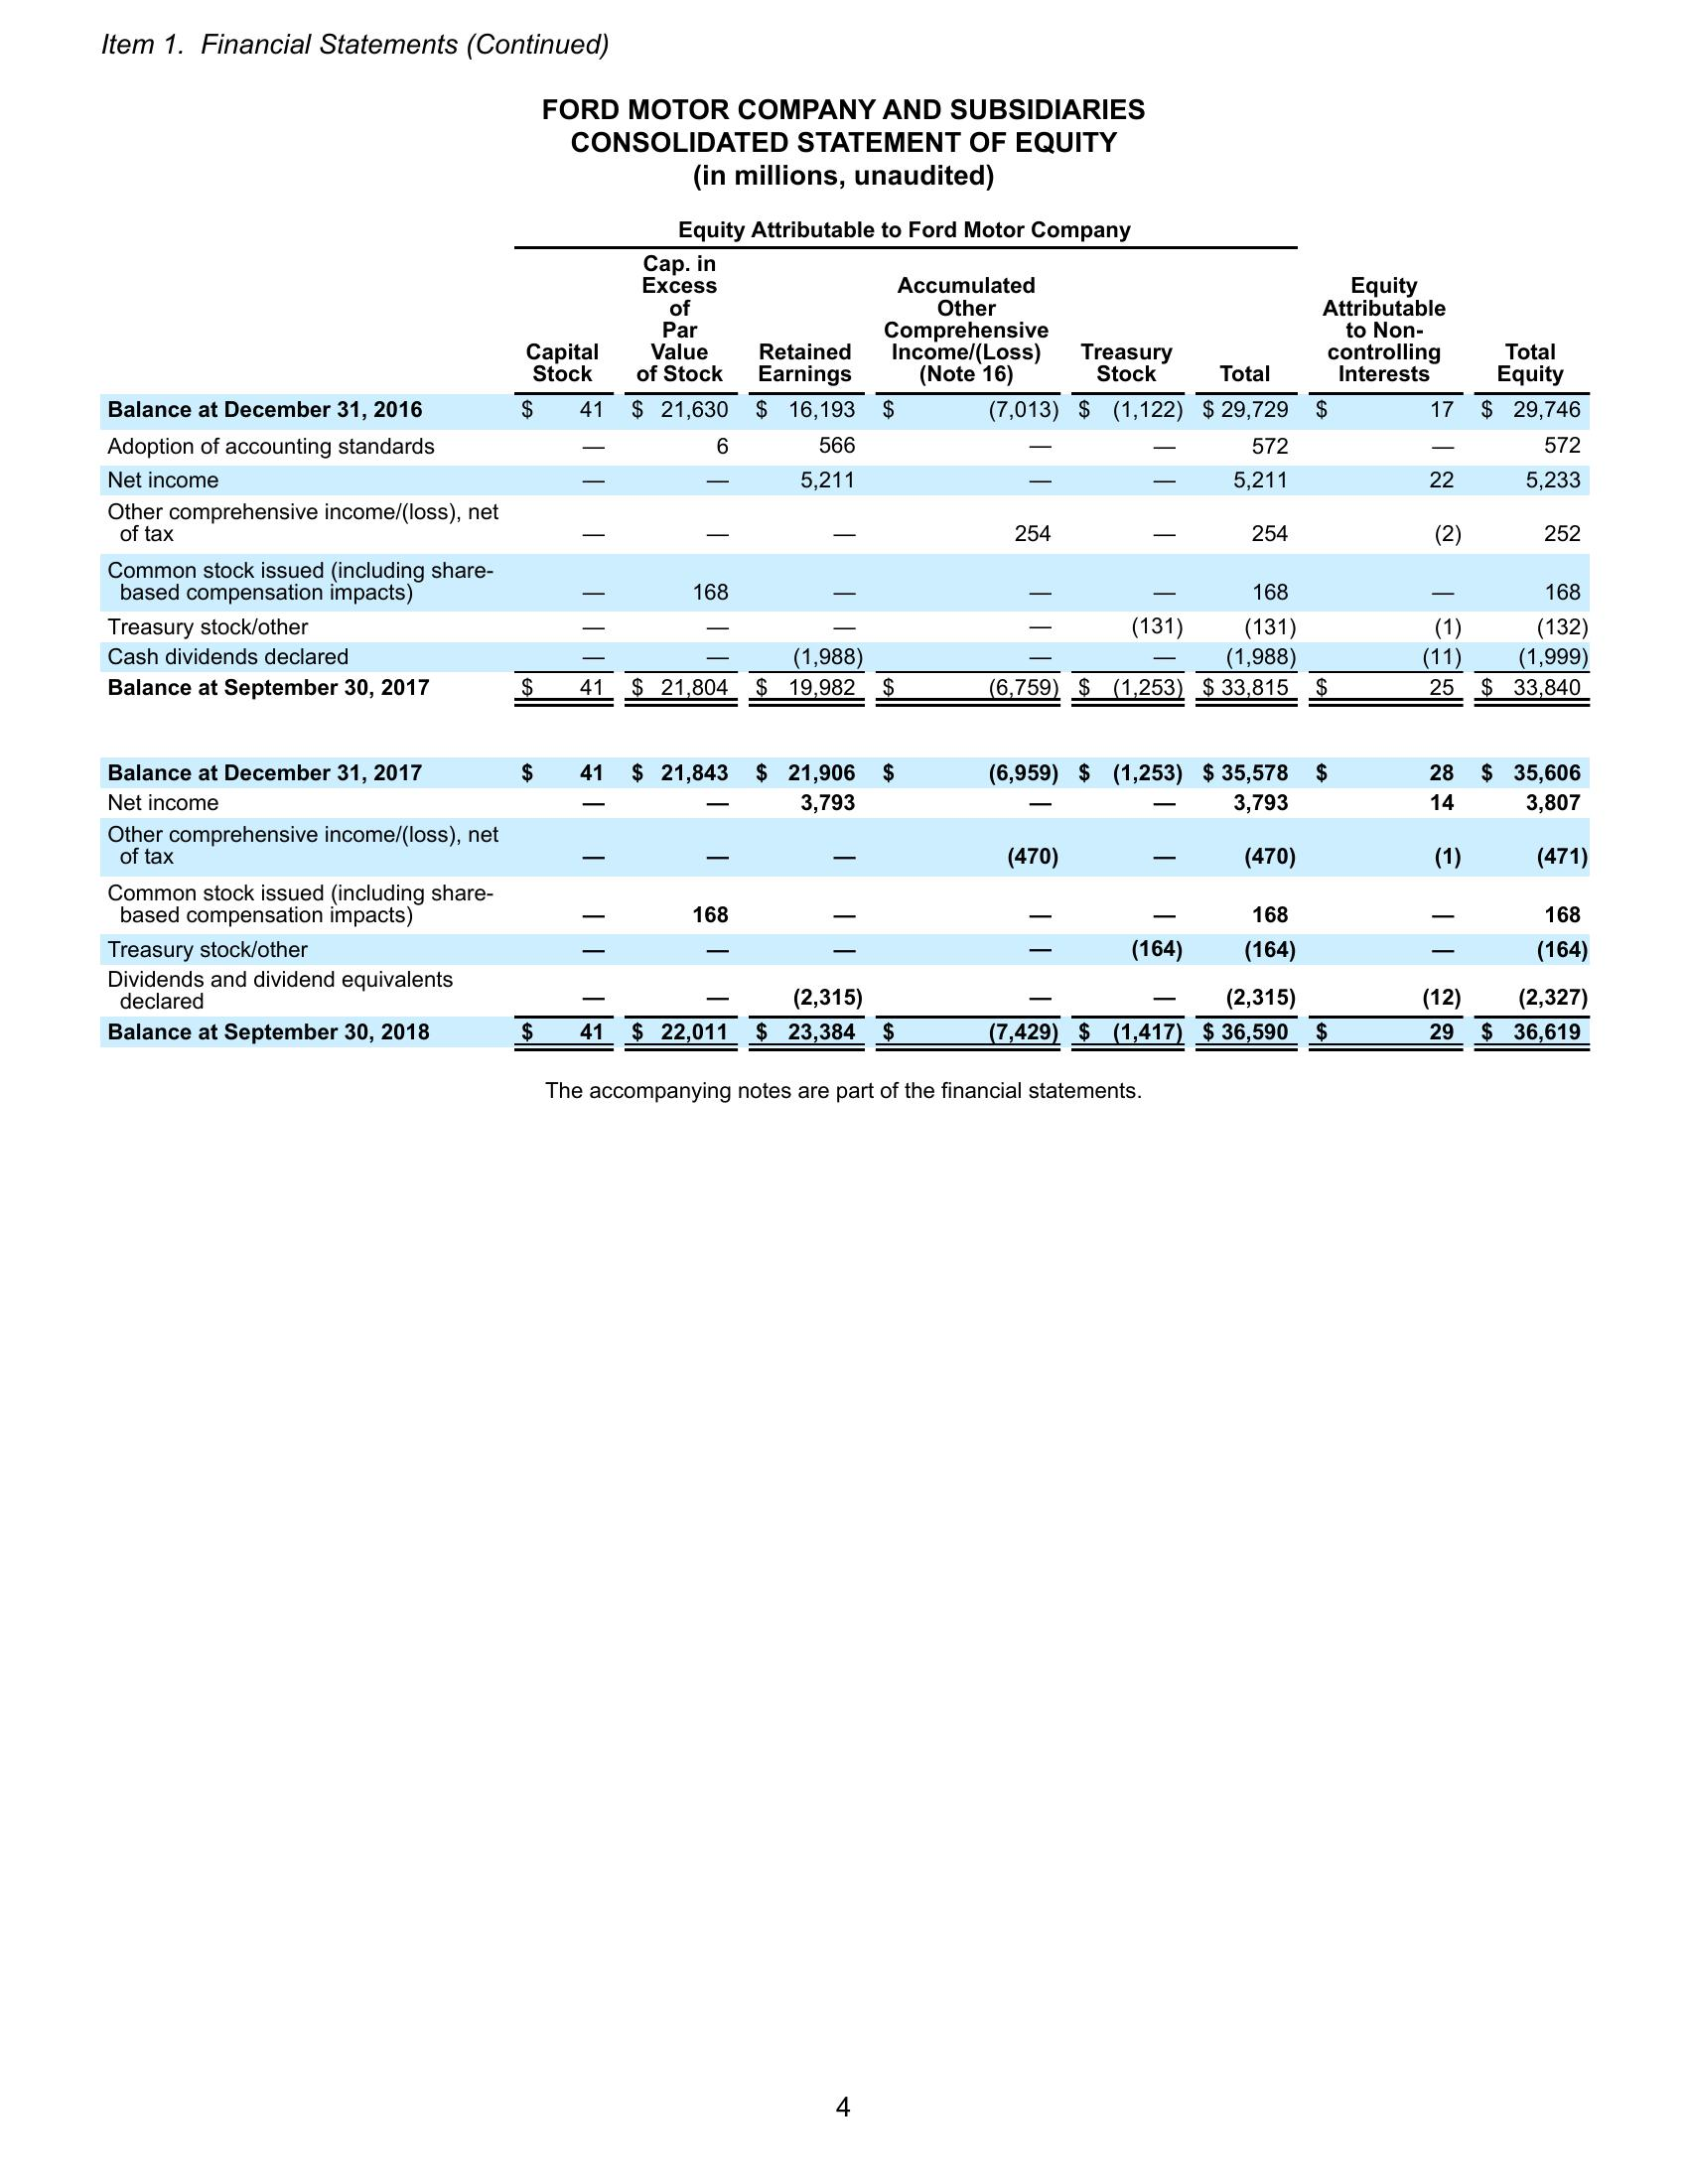table: (92, 216, 1596, 1057)
